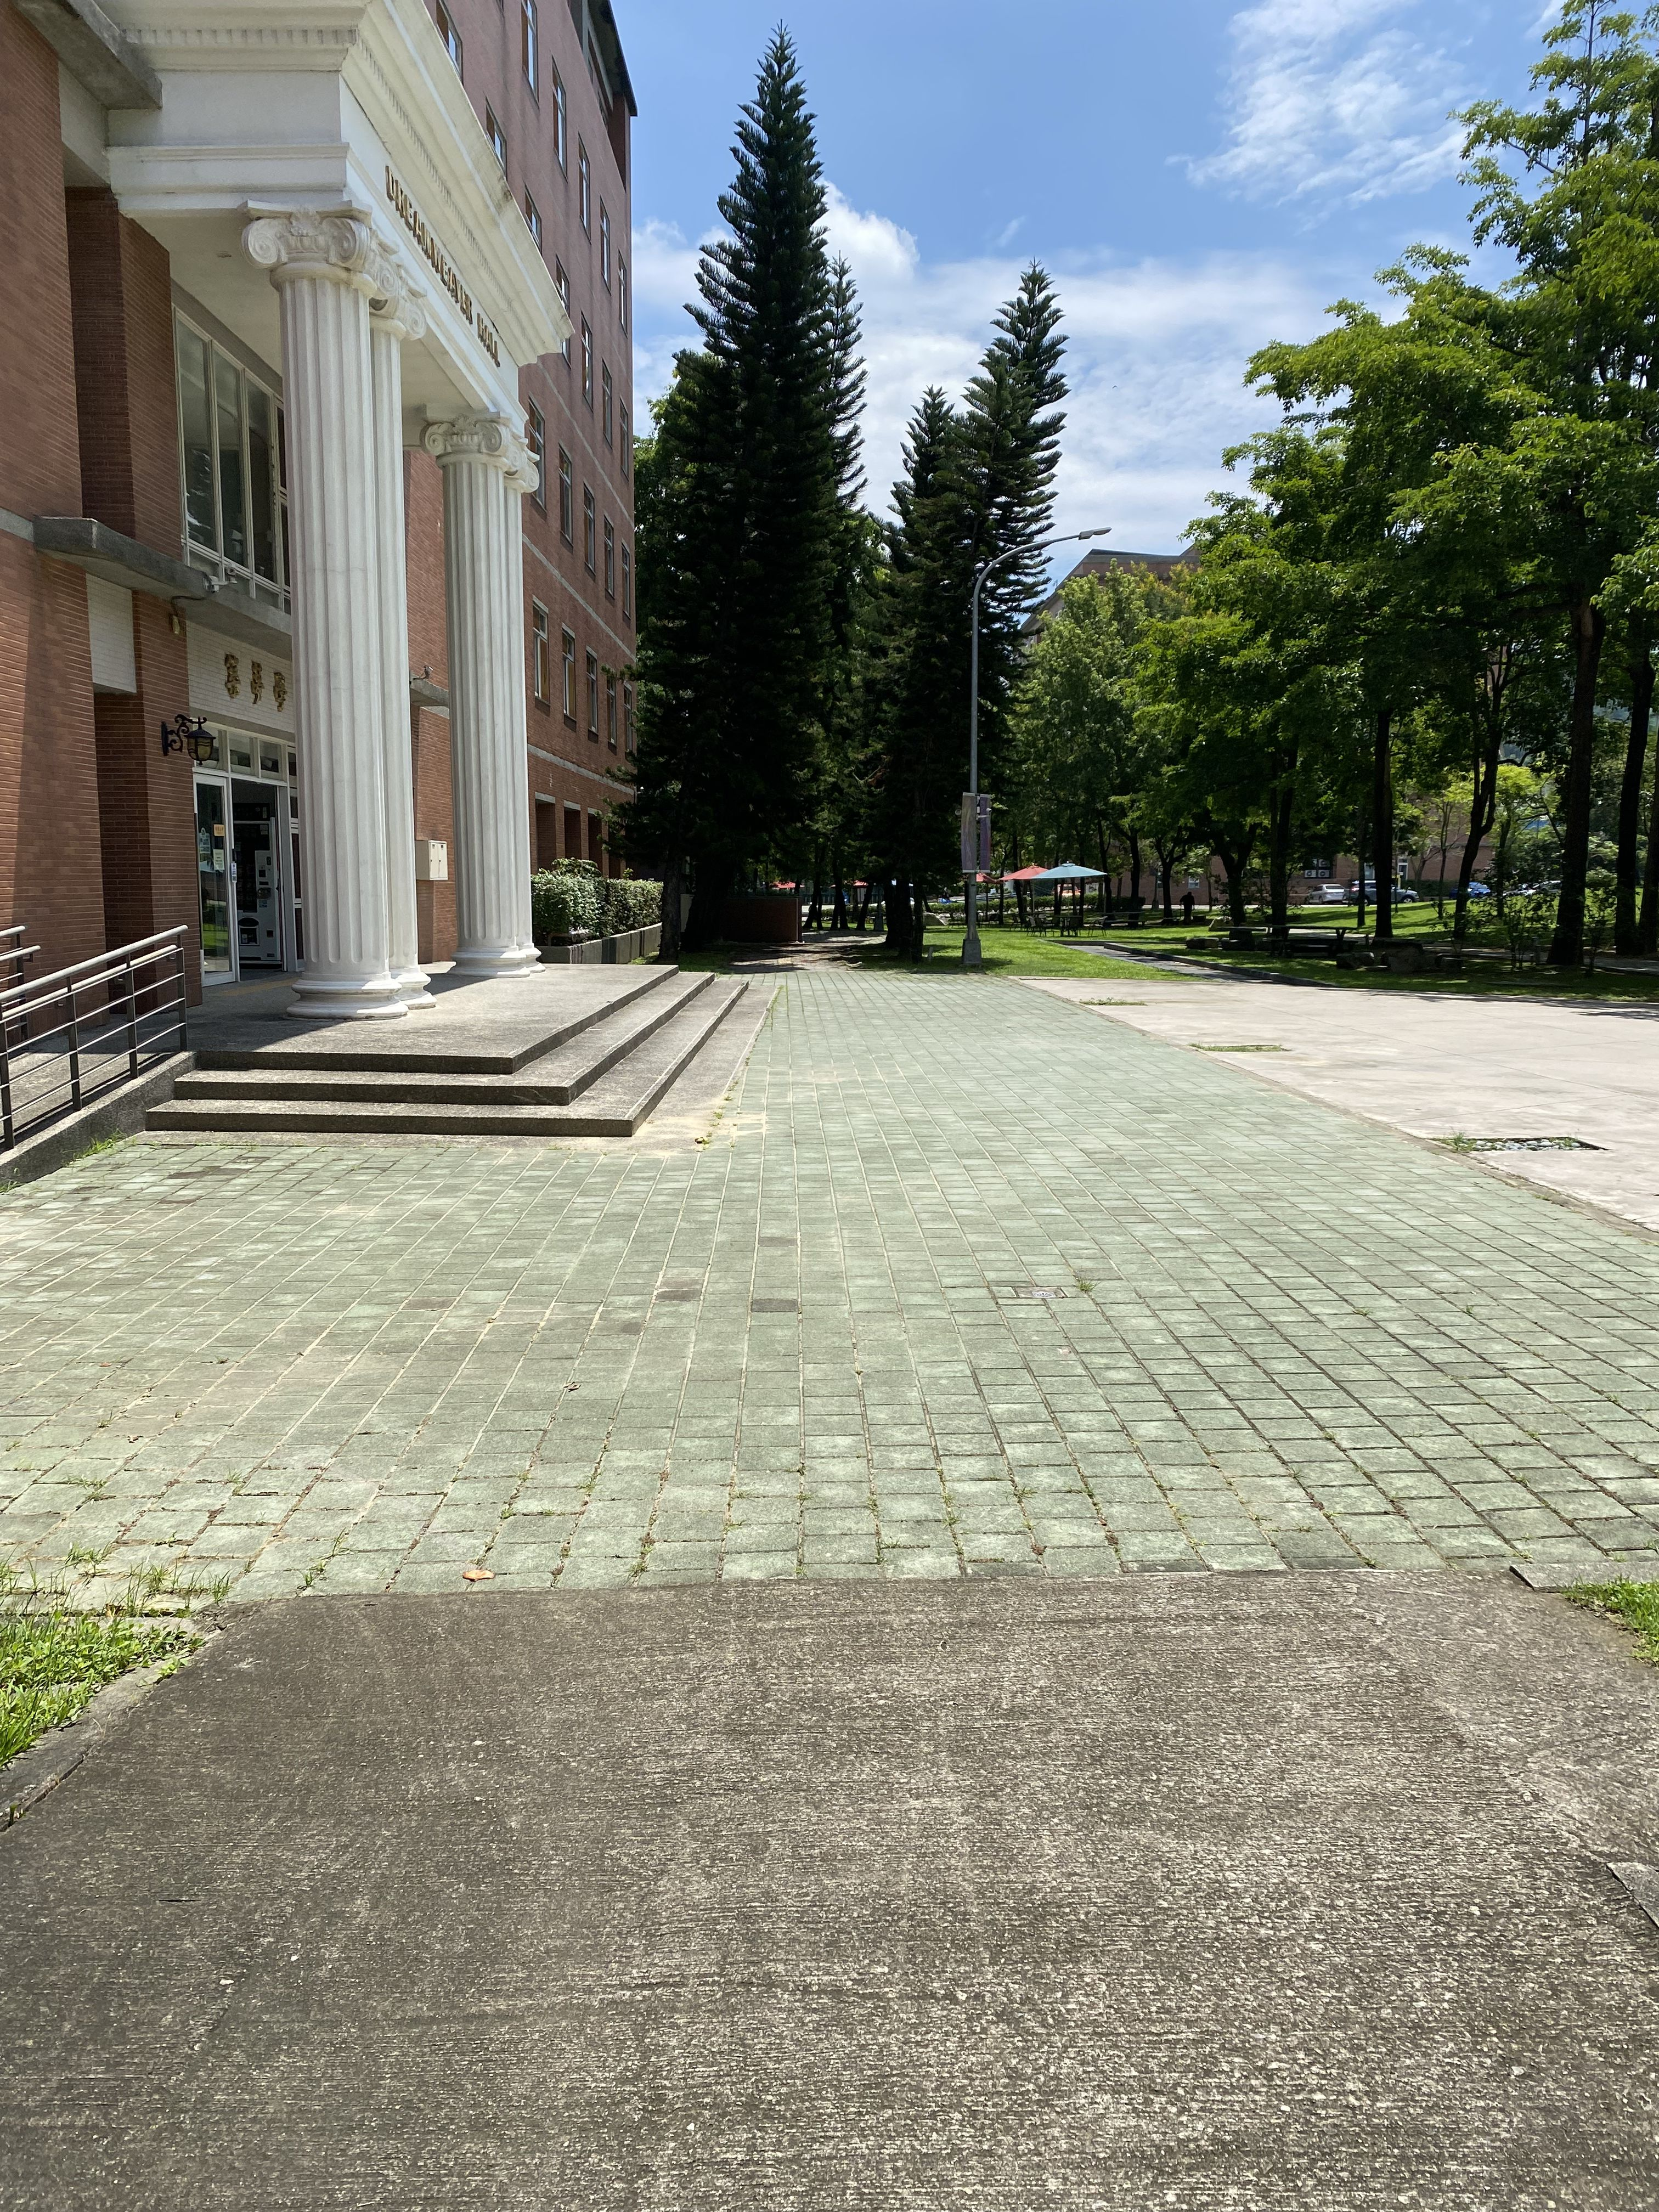0: (0, 1111, 913, 2212)
sidewalk: (673, 892, 1659, 2212)
